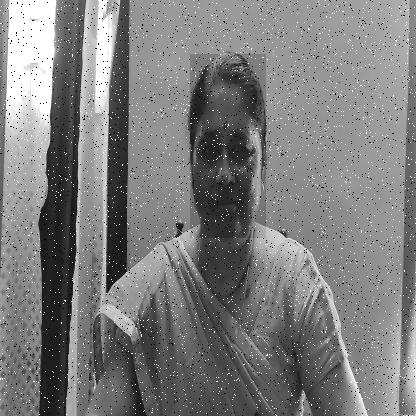Normal: (190, 54, 266, 238)
